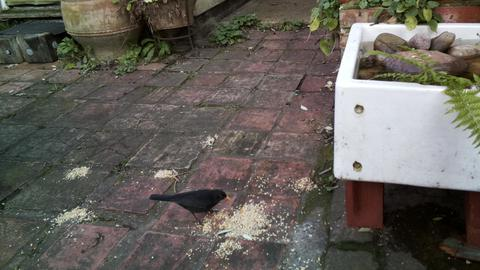blackbird: (148, 188, 232, 226)
